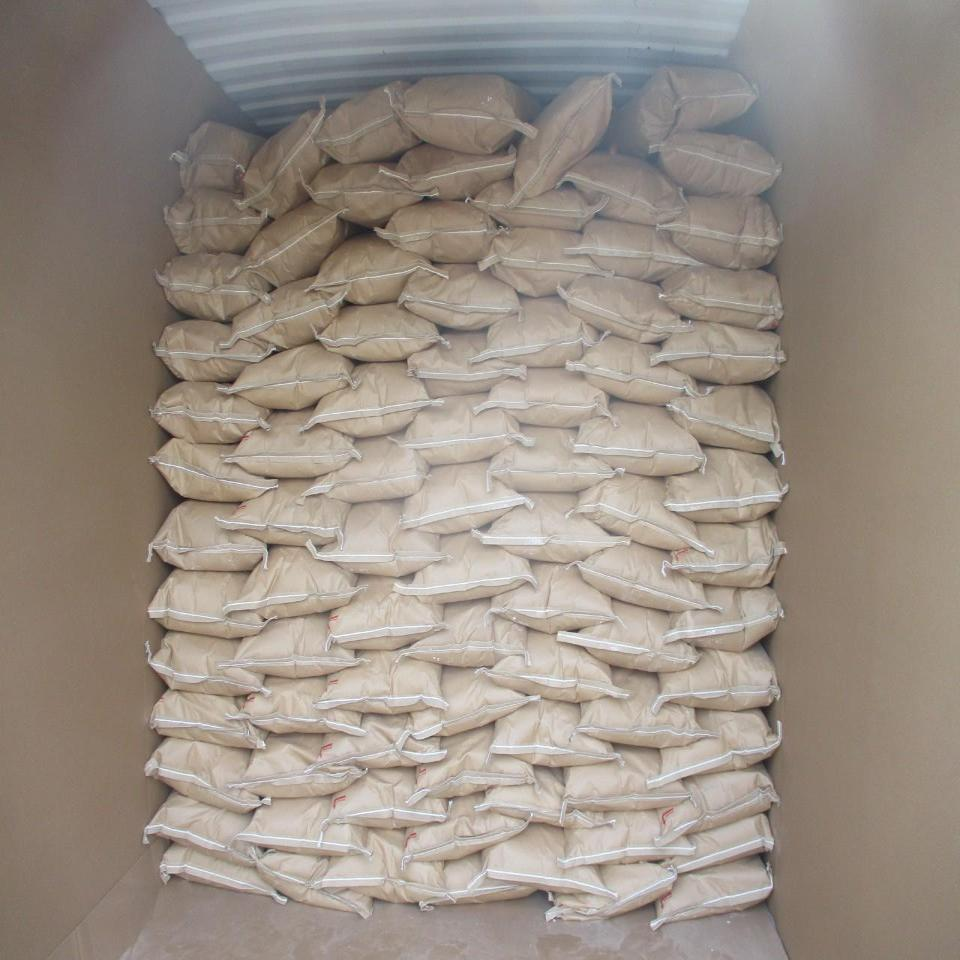bag: (516, 76, 612, 198), (620, 68, 758, 151), (401, 76, 542, 155), (486, 629, 628, 704), (559, 597, 701, 672), (480, 823, 615, 900), (484, 491, 629, 562), (401, 528, 538, 603), (579, 669, 710, 746), (308, 358, 433, 438), (401, 456, 525, 536), (308, 234, 445, 305), (242, 205, 362, 285), (322, 497, 440, 578), (307, 428, 431, 505), (324, 828, 451, 903), (236, 401, 357, 479), (578, 477, 703, 552), (567, 337, 700, 407), (655, 711, 779, 785), (406, 668, 533, 740), (245, 111, 332, 216), (415, 721, 532, 799), (487, 295, 607, 371), (146, 738, 264, 815), (491, 426, 620, 496), (319, 643, 446, 714), (401, 793, 526, 865), (578, 545, 716, 610), (235, 545, 356, 619), (660, 448, 781, 522), (654, 855, 775, 929), (581, 403, 703, 476), (226, 271, 342, 347), (143, 794, 265, 866), (235, 609, 360, 679), (149, 569, 275, 638), (330, 573, 445, 648), (665, 193, 780, 268), (566, 155, 684, 228), (242, 790, 370, 857), (318, 81, 420, 165), (228, 476, 348, 547), (406, 597, 529, 666), (307, 162, 441, 225), (240, 731, 366, 798), (493, 562, 617, 630), (486, 231, 622, 293), (401, 262, 519, 333), (659, 768, 773, 841), (658, 386, 778, 455), (579, 219, 708, 283), (382, 198, 507, 264), (563, 746, 689, 811), (657, 133, 779, 200), (156, 252, 276, 320), (407, 392, 517, 466), (411, 330, 524, 402), (486, 768, 613, 832), (565, 275, 692, 339), (158, 841, 287, 904), (658, 645, 779, 712), (150, 502, 264, 573), (494, 700, 613, 767), (150, 629, 268, 696), (154, 320, 283, 381), (673, 517, 783, 588), (233, 346, 352, 411), (151, 380, 274, 442), (230, 675, 361, 733), (152, 440, 273, 502), (319, 305, 444, 365), (256, 852, 373, 916), (565, 810, 696, 866), (551, 860, 673, 919), (490, 370, 612, 429), (150, 690, 271, 749), (662, 266, 782, 325), (667, 587, 779, 649), (399, 143, 518, 201), (166, 188, 272, 253), (330, 770, 448, 828), (422, 851, 539, 909), (470, 184, 605, 234), (319, 714, 441, 769), (665, 325, 778, 383), (667, 817, 775, 876), (179, 123, 271, 191)
